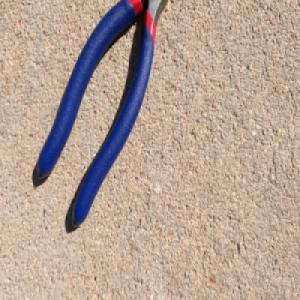Pliers: (36, 0, 171, 230)
